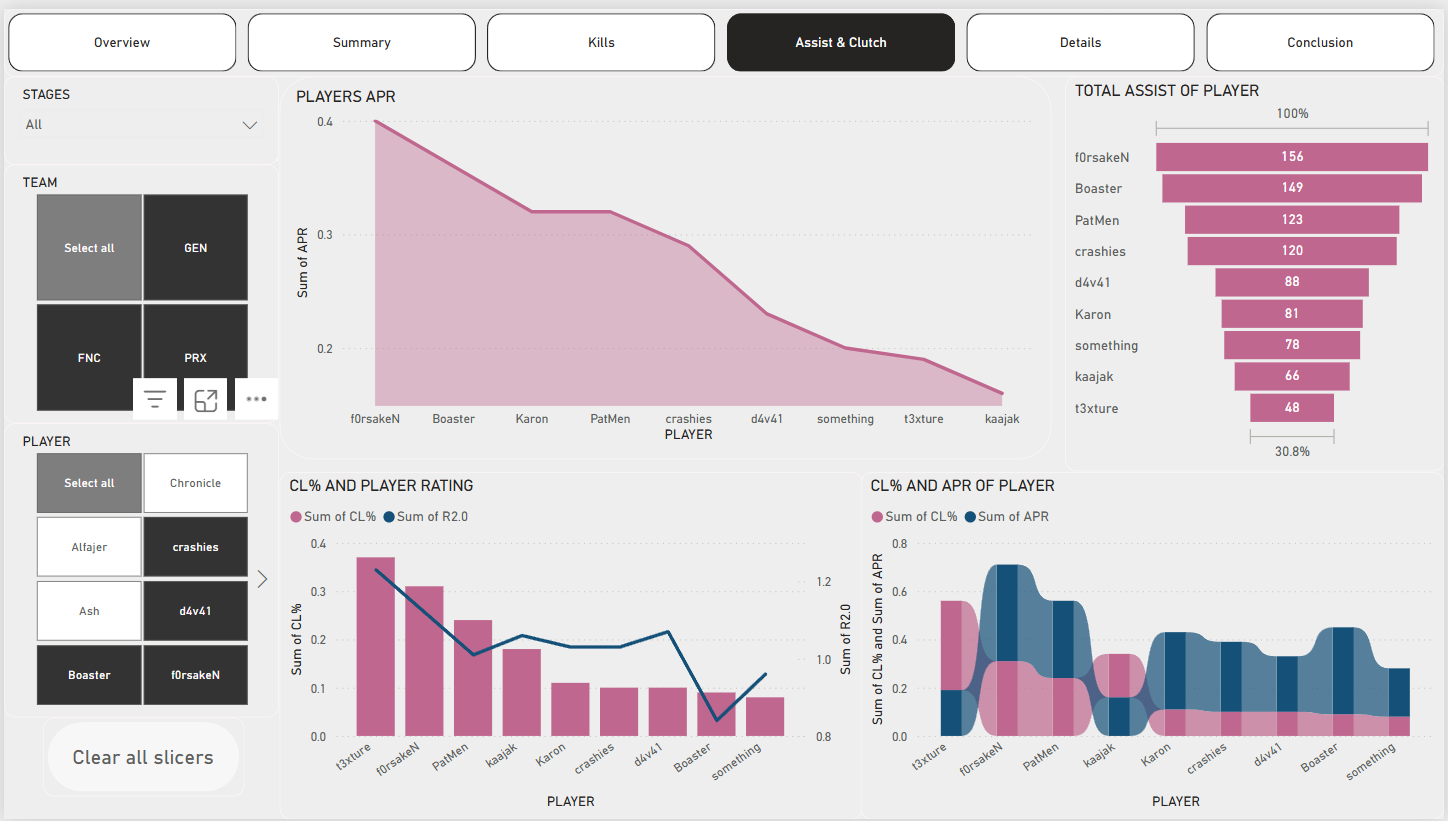

The page's visual inventory and layout, read from the dashboard file:
{"tool":"powerbi","page":{"name":"Assist & Clutch","canvas":[1280,720],"ordinal":3},"visuals":[{"type":"actionButton","box":[34.3,630,178.6,70],"z":0},{"type":"slicer","fields":{"Values":["Sheet2.TEAM"]},"box":[0,138.6,244.3,230],"z":1000},{"type":"slicer","fields":{"Values":["Sheet2.STAGES"]},"box":[0,60,244.3,78.6],"z":2000},{"type":"pageNavigator","box":[0,0,1280,60],"z":3000},{"type":"slicer","fields":{"Values":["Sheet2.PLAYER"]},"box":[0,368.6,244.3,261.4],"z":4000},{"type":"lineStackedColumnComboChart","title":"CL% AND PLAYER RATING","fields":{"Category":["Sheet2.PLAYER"],"Y":["Sheet2.CL%"],"Y2":["Sheet2.R2.0"]},"box":[244.3,411.4,518.6,308.6],"z":5000},{"type":"areaChart","title":"PLAYERS APR","fields":{"Category":["Sheet2.PLAYER"],"Y":["Sheet2.APR"]},"box":[244.3,60,685.7,340],"z":6000},{"type":"ribbonChart","title":"CL% AND APR OF PLAYER","fields":{"Category":["Sheet2.PLAYER"],"Y":["Sheet2.CL%","Sheet2.APR"]},"box":[761.4,411.4,518.6,308.6],"z":7000},{"type":"funnel","title":"TOTAL ASSIST OF PLAYER","fields":{"Category":["Sheet2.PLAYER"],"Y":["Sheet2.A"]},"box":[943,60,337,351],"z":8000}]}

Visuals, with their boxes in screenshot pixels (x1, y1, x2, y2), scaled from the page's 1280x720 canvas onto the 1448x821 screenshot:
actionButton: [39, 718, 241, 798]
slicer - Sheet2.TEAM: [0, 158, 276, 420]
slicer - Sheet2.STAGES: [0, 68, 276, 158]
pageNavigator: [0, 0, 1447, 68]
slicer - Sheet2.PLAYER: [0, 420, 276, 718]
"CL% AND PLAYER RATING" lineStackedColumnComboChart: [276, 469, 863, 820]
"PLAYERS APR" areaChart: [276, 68, 1052, 456]
"CL% AND APR OF PLAYER" ribbonChart: [861, 469, 1447, 820]
"TOTAL ASSIST OF PLAYER" funnel: [1067, 68, 1447, 469]
